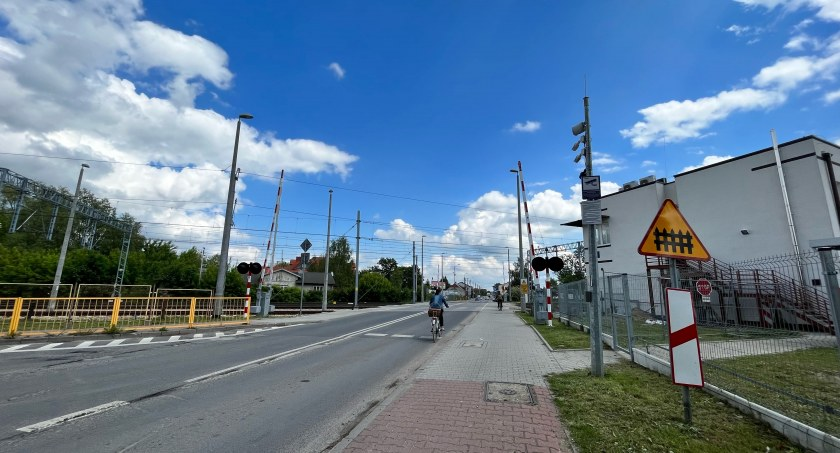a9: (649, 224, 696, 257)
